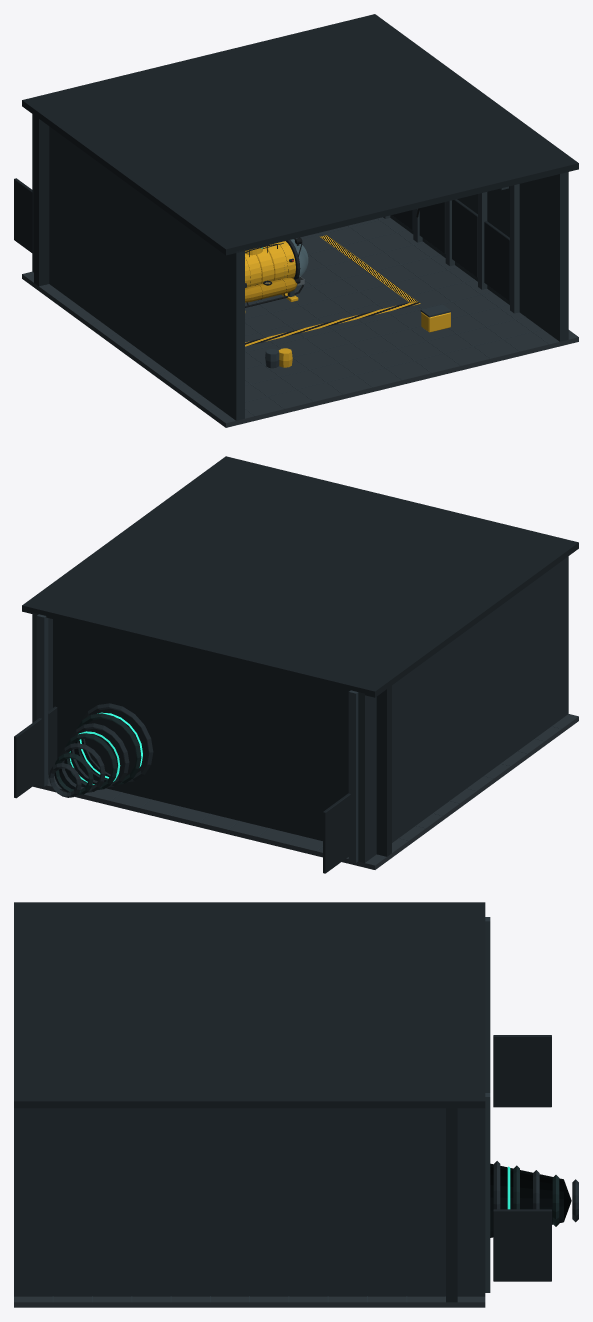
Rendered from sub_chamber.glb.
3 views of the same model, one above another, from view 1: azimuth 30°, elevation 25°; view 2: azimuth 150°, elevation 25°; view 3: azimuth 270°, elevation 25° (orthographic). The views are drawn at different scales.
Visible parts, largest first — view 1: sc_shell, sub_hull, sc_foreground; view 2: sc_shell, passage_mouth; view 3: sc_shell, passage_mouth.
Boxes of the visible parts, x1,y1,x2,y2 form: sc_shell: (14,14,578,427); sub_hull: (245,238,304,307); sc_foreground: (265,208,451,368); sc_shell: (14,456,578,873); passage_mouth: (49,703,153,797); sc_shell: (14,902,551,1307); passage_mouth: (490,1161,578,1237).
Size of the model in its own units: 24 by 11.6 by 28.77.
Materials: 34 (6 with a texture image).
